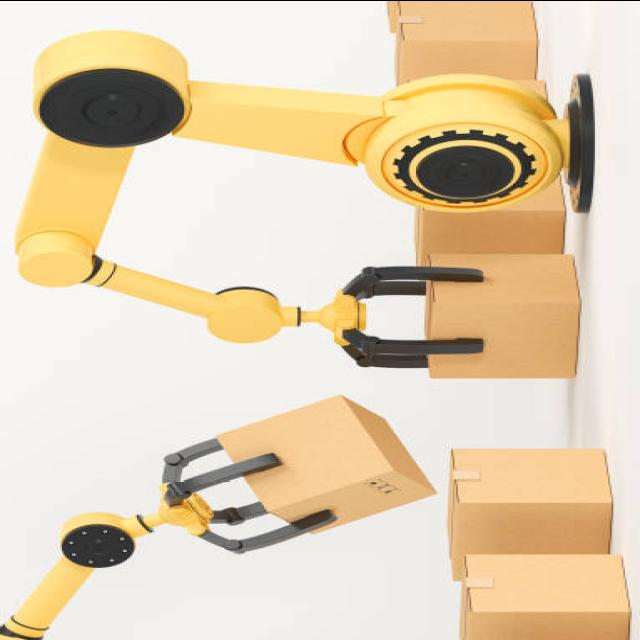Robotic-arm: (11, 26, 599, 376), (0, 436, 277, 640)
